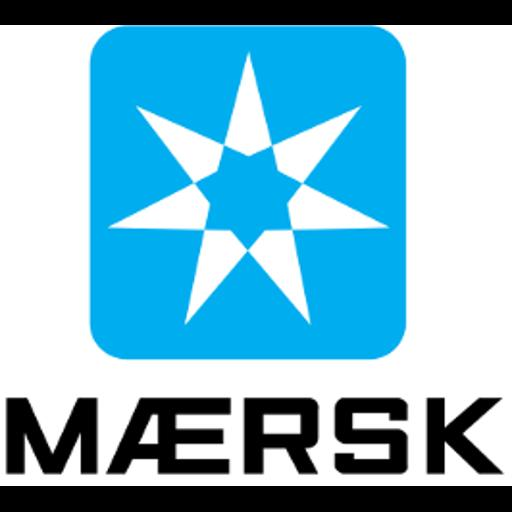Maersk: (0, 25, 512, 486)
